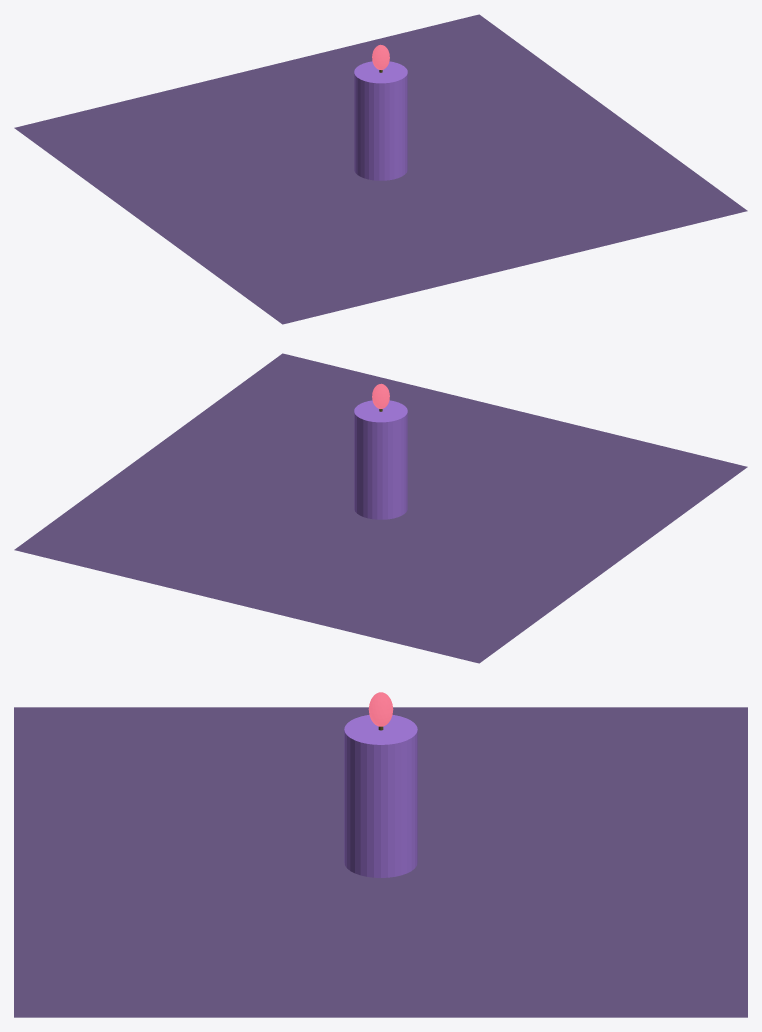
The picture shows the model from 3 angles, top to bottom: view 1: azimuth 30°, elevation 25°; view 2: azimuth 150°, elevation 25°; view 3: azimuth 270°, elevation 25°; orthographic projection. The views are drawn at different scales.
Size of the model in its own units: 3 by 0.7651 by 3.
